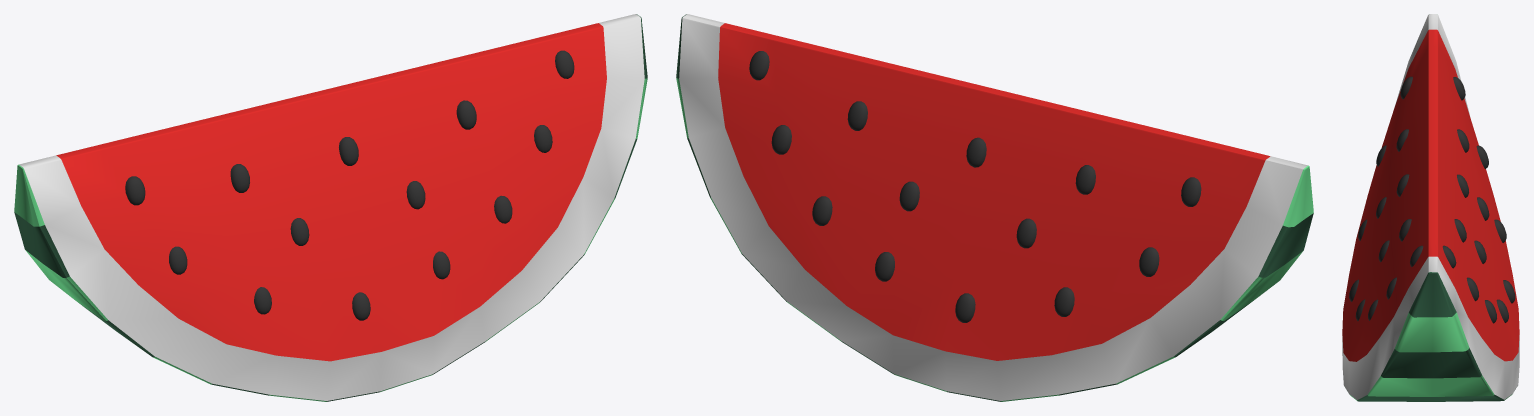
Rendered from watermelon.glb.
3 renders of one model, left to right at view 1: azimuth 30°, elevation 25°; view 2: azimuth 150°, elevation 25°; view 3: azimuth 270°, elevation 25°, orthographic. The views are drawn at different scales.
Visible parts, largest first — view 1: watermelon_0; view 2: watermelon_0; view 3: watermelon_0.
Boxes of the visible parts, x1,y1,x2,y2 form: watermelon_0: (14, 14, 647, 401); watermelon_0: (676, 14, 1313, 401); watermelon_0: (1342, 14, 1519, 401).
Bounding box in the file's own units: 2.61 × 1.06 × 0.7556.
